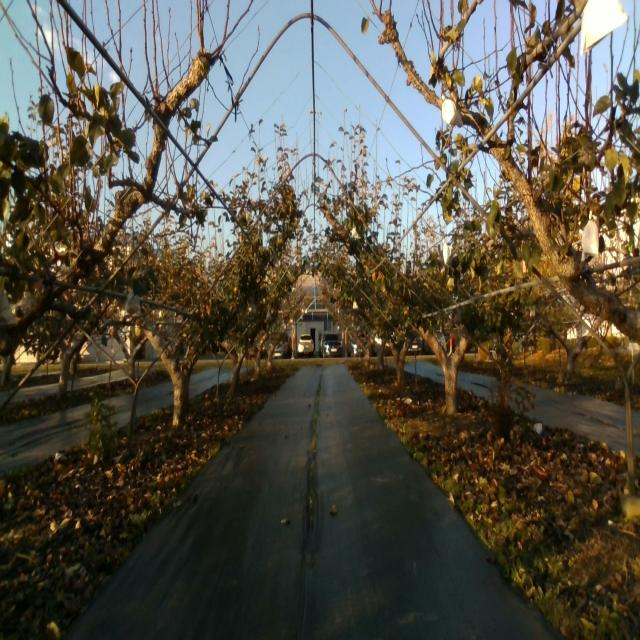pearbags: (580, 0, 629, 56), (580, 211, 599, 262), (440, 93, 463, 127), (126, 291, 140, 315), (442, 238, 452, 265)
